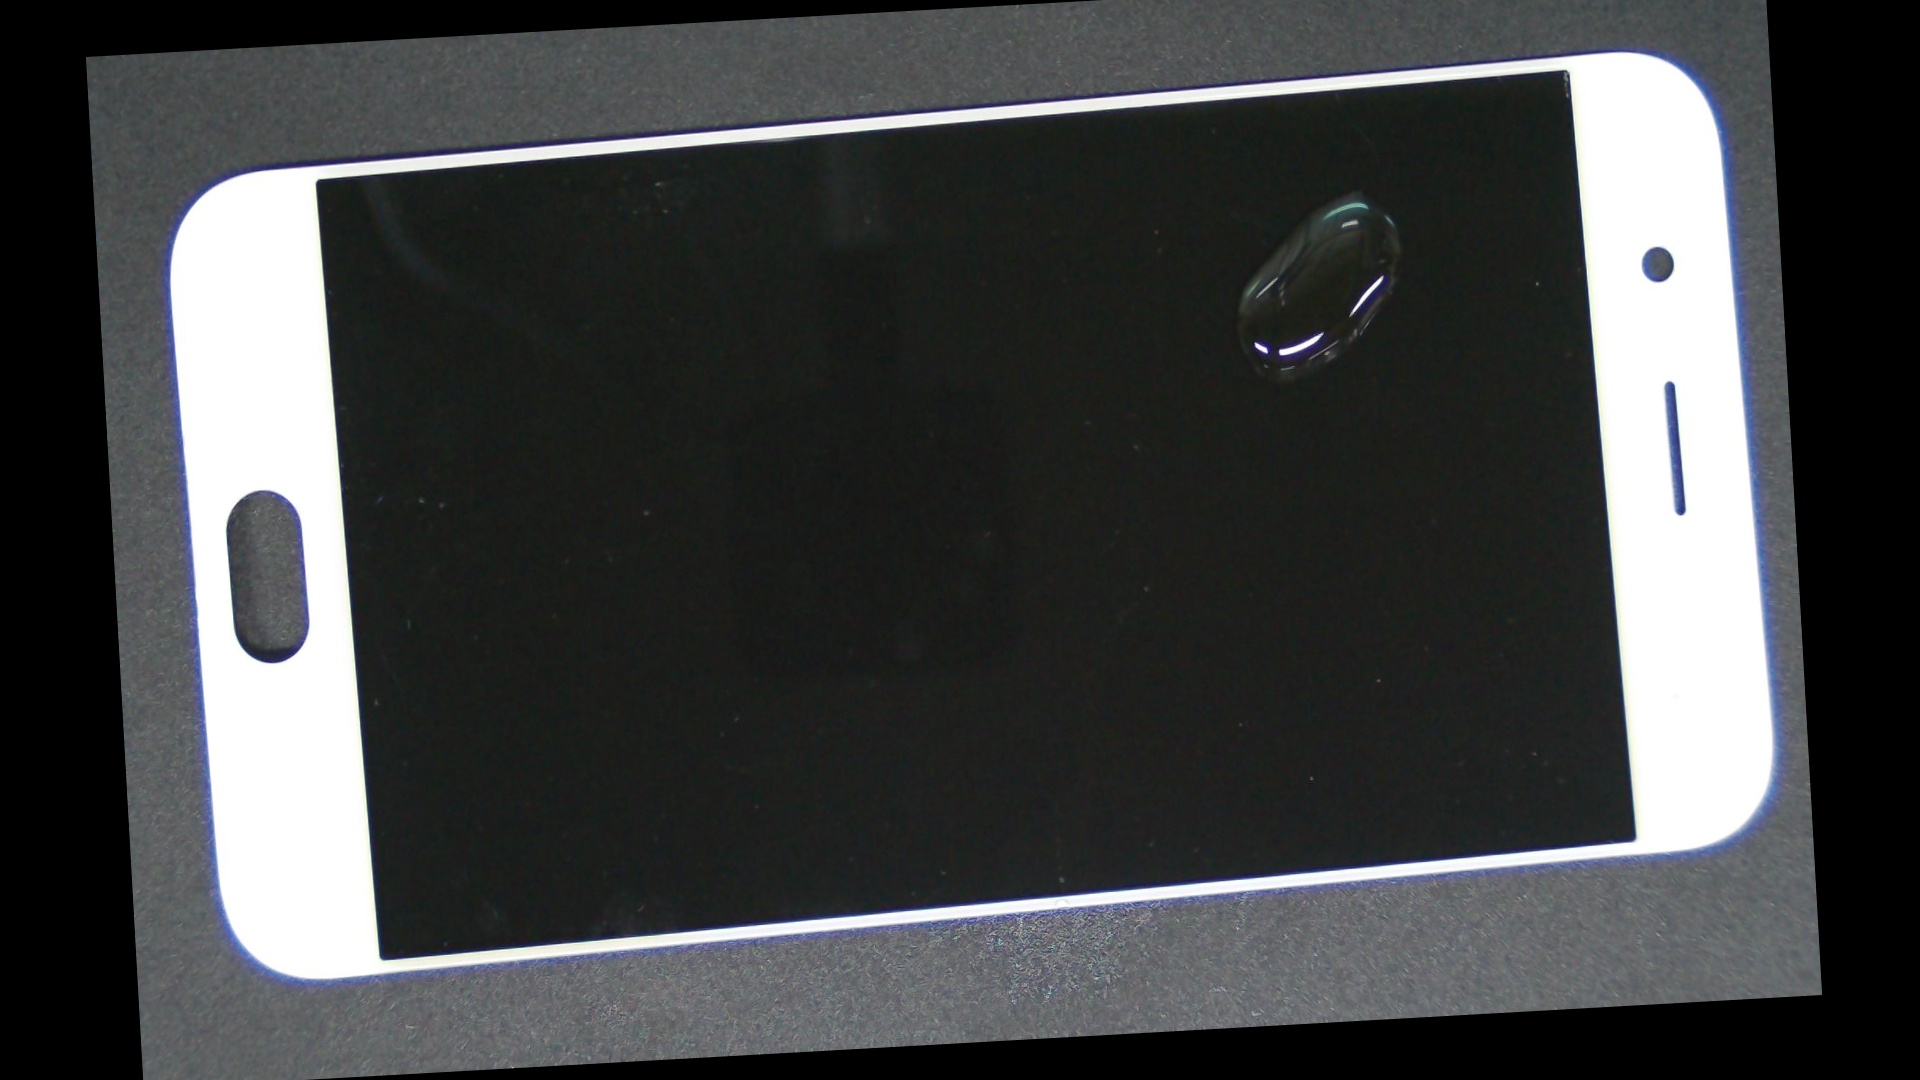oil: (721, 65, 1782, 327)
